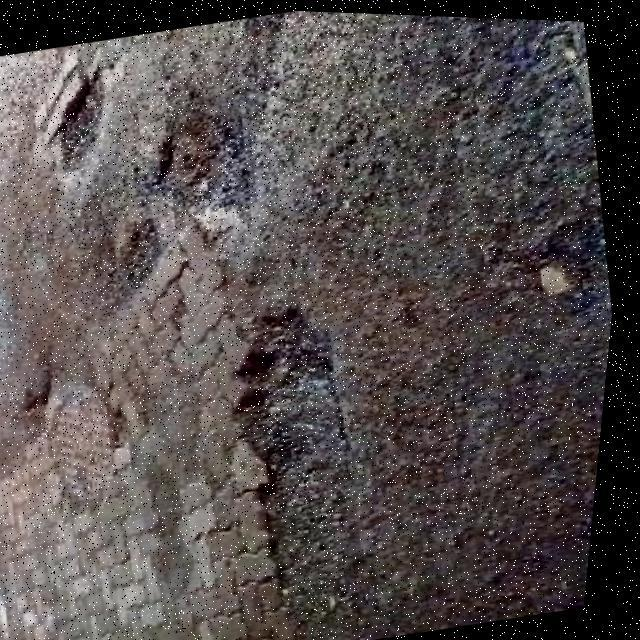pothole: (200, 288, 414, 635), (132, 100, 272, 225), (31, 61, 126, 180), (0, 560, 33, 640), (0, 230, 25, 333)
